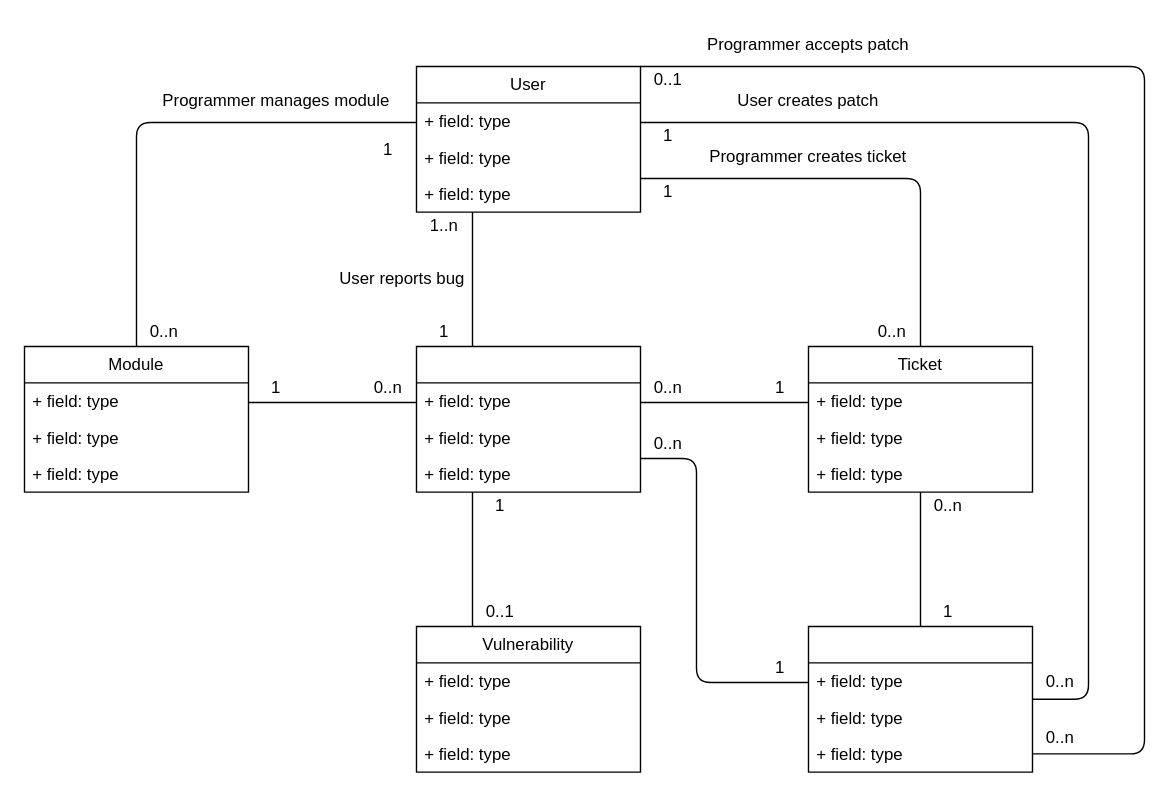
The diagram is 1170 pixels wide and 799 high, and some of its shapes have lost their labels. Each missing label, with the box of its shape:
Bug: (415, 345, 640, 492)
Patch: (807, 625, 1032, 772)
